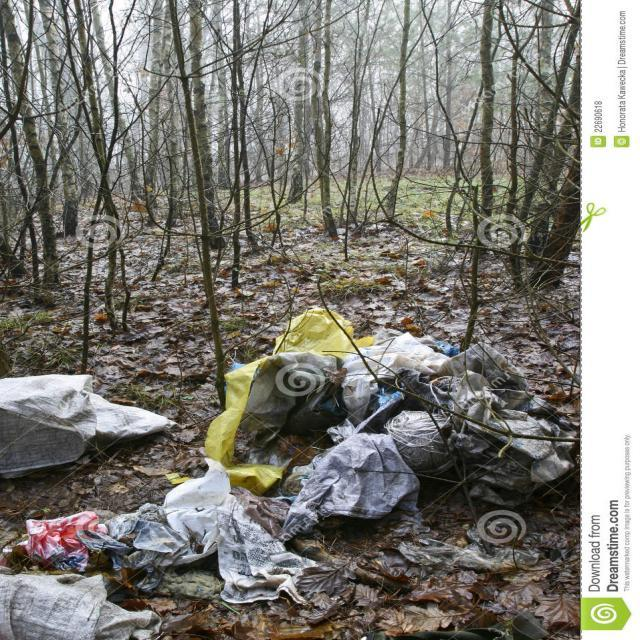garbage: (205, 304, 581, 522), (0, 475, 268, 638), (0, 372, 163, 470)
